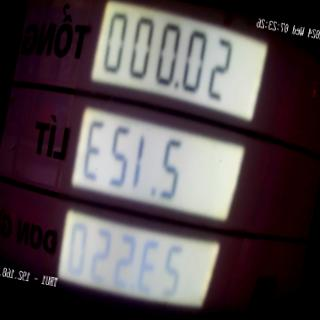screen: (43, 0, 275, 320)
